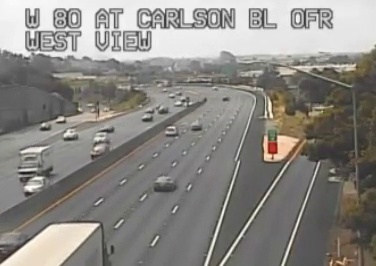car: (153, 176, 174, 192), (164, 126, 177, 136)
